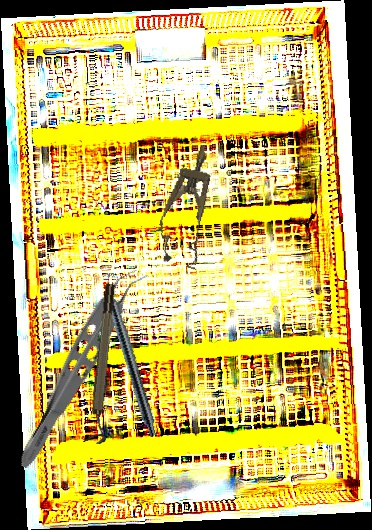Fixation Ring: (83, 283, 125, 445)
Handpiece: (98, 271, 162, 438)
Speculum: (150, 140, 227, 270)
Tissue Forceps: (13, 259, 150, 479)
